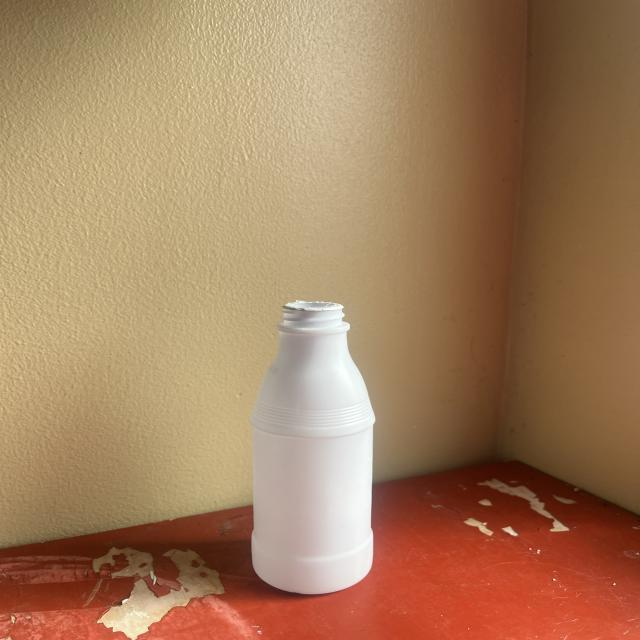HDPE_Bottle: (251, 301, 374, 593)
